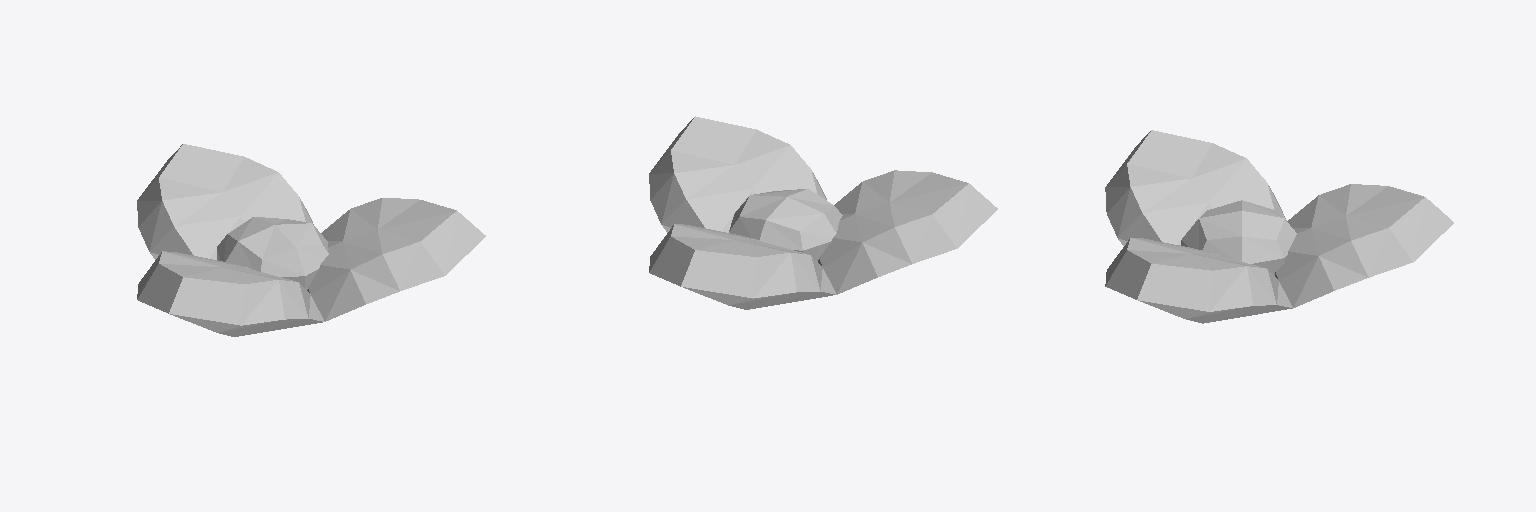
File: flower_B.obj
3 renders of one model, left to right at view 1: azimuth 30°, elevation 25°; view 2: azimuth 150°, elevation 25°; view 3: azimuth 270°, elevation 25°, orthographic.
Visible parts, largest first — view 1: flower_B; view 2: flower_B; view 3: flower_B.
Part boxes in pixels (left/top/right/bottom): flower_B: left=137, top=144, right=485, bottom=336; flower_B: left=649, top=116, right=997, bottom=309; flower_B: left=1105, top=130, right=1453, bottom=323.
Bounding box in the file's own units: 0.3111 × 0.1107 × 0.2963.